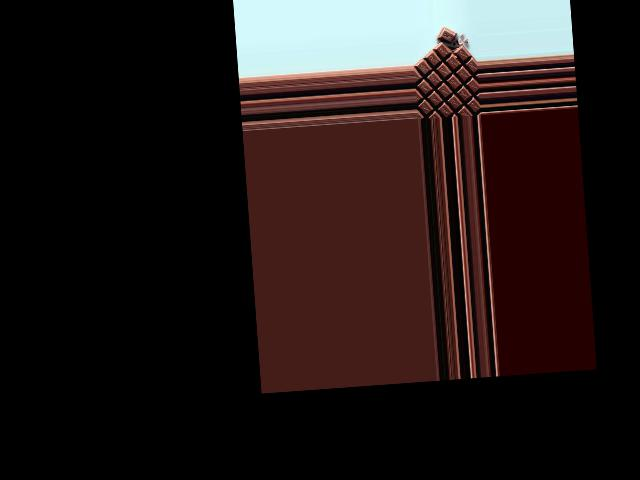chocolate: (414, 34, 480, 120)
